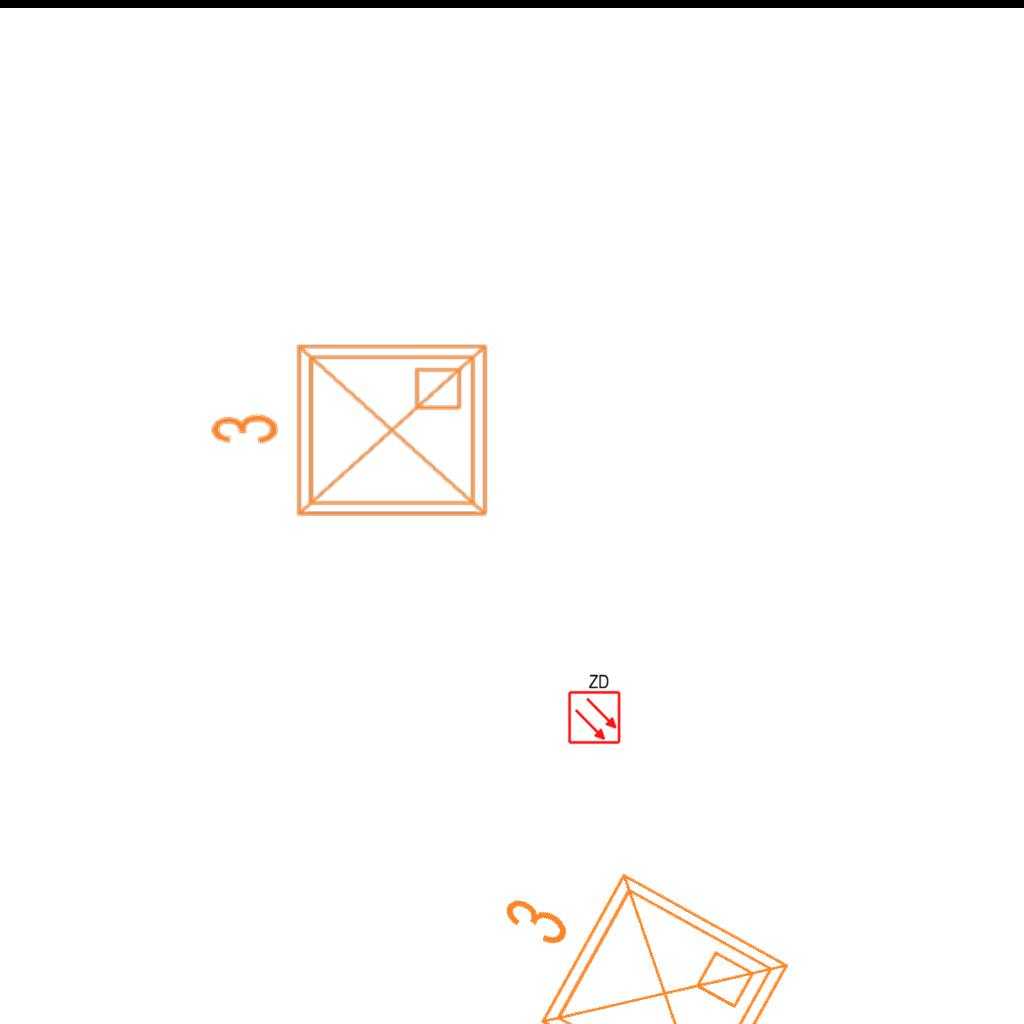Einbaudownlights_LED_Konferenzraeume: (445, 813, 809, 1024), (201, 330, 501, 538)
ZD_Melder_in_Zwischendecke_mit_Revisionsoeffnung_mind_40_x_40_cm: (565, 671, 622, 745)
